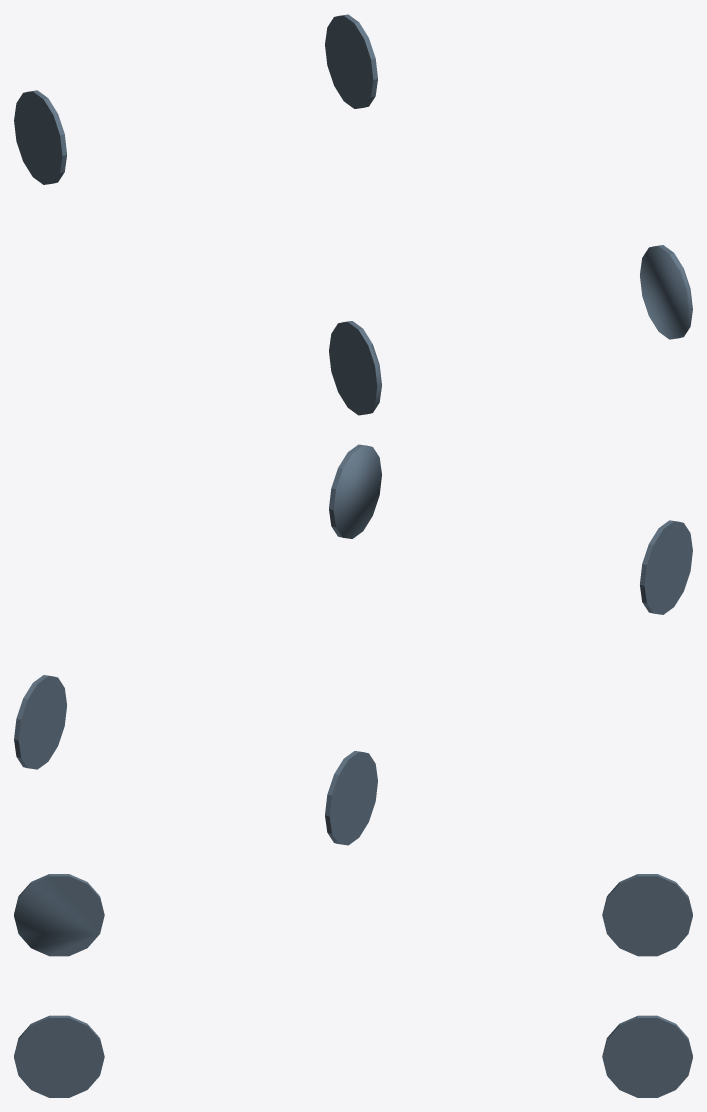
Rendered from vehicle_discs.obj.
3 views of the same model, one above another, from view 1: azimuth 30°, elevation 25°; view 2: azimuth 150°, elevation 25°; view 3: azimuth 270°, elevation 25° (orthographic). The views are drawn at different scales.
Visible parts, largest first — view 1: car_discs; view 2: car_discs; view 3: car_discs.
Part boxes in pixels (box(x1,y1,x2,y2)): car_discs: box(14, 14, 692, 415); car_discs: box(14, 444, 692, 845); car_discs: box(14, 874, 692, 1097).
Bounding box in the file's own units: 3.5 × 0.9061 × 6.97.
1 material, 1 textured.
